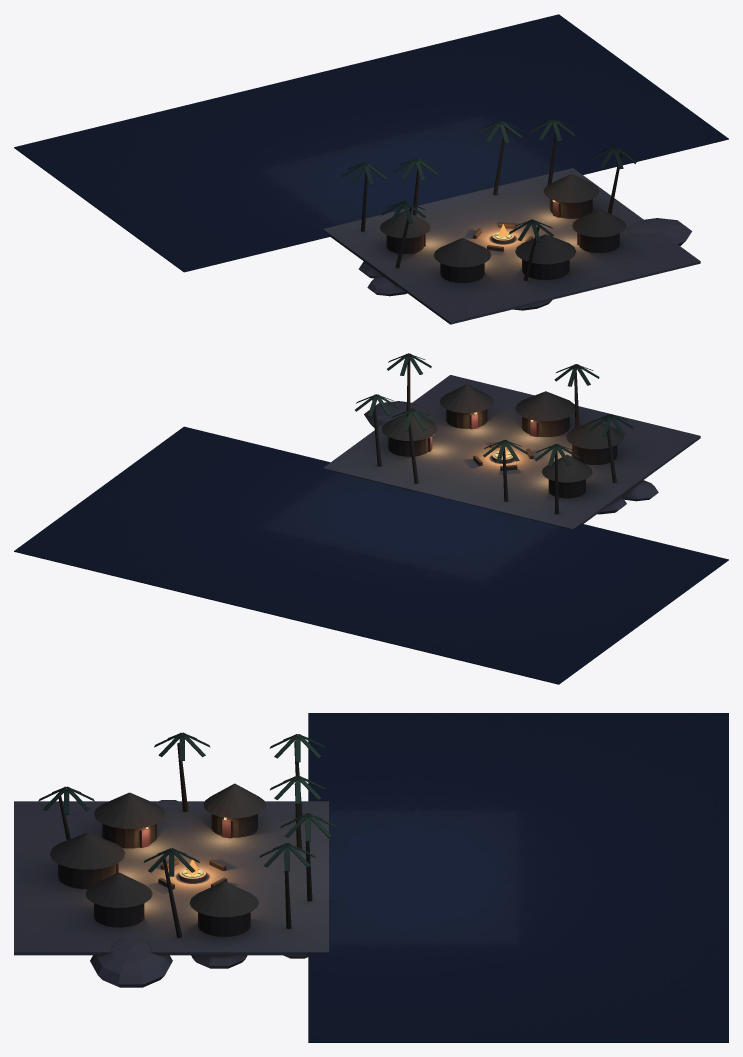
File: village.glb
The picture shows the model from 3 angles, top to bottom: view 1: azimuth 30°, elevation 25°; view 2: azimuth 150°, elevation 25°; view 3: azimuth 270°, elevation 25°; orthographic projection. The views are drawn at different scales.
Parts seen in each view (by area): view 1: Shell, Furniture; view 2: Shell, Furniture; view 3: Shell, Furniture.
Part boxes in pixels (left/top/right/bottom): Shell: left=14, top=14, right=728, bottom=324; Furniture: left=342, top=119, right=636, bottom=282; Shell: left=14, top=375, right=728, bottom=684; Furniture: left=355, top=353, right=633, bottom=514; Shell: left=14, top=713, right=728, bottom=1042; Furniture: left=38, top=732, right=336, bottom=937.
Size of the model in its own units: 74 by 12.01 by 68.
4 materials, 2 textured.
